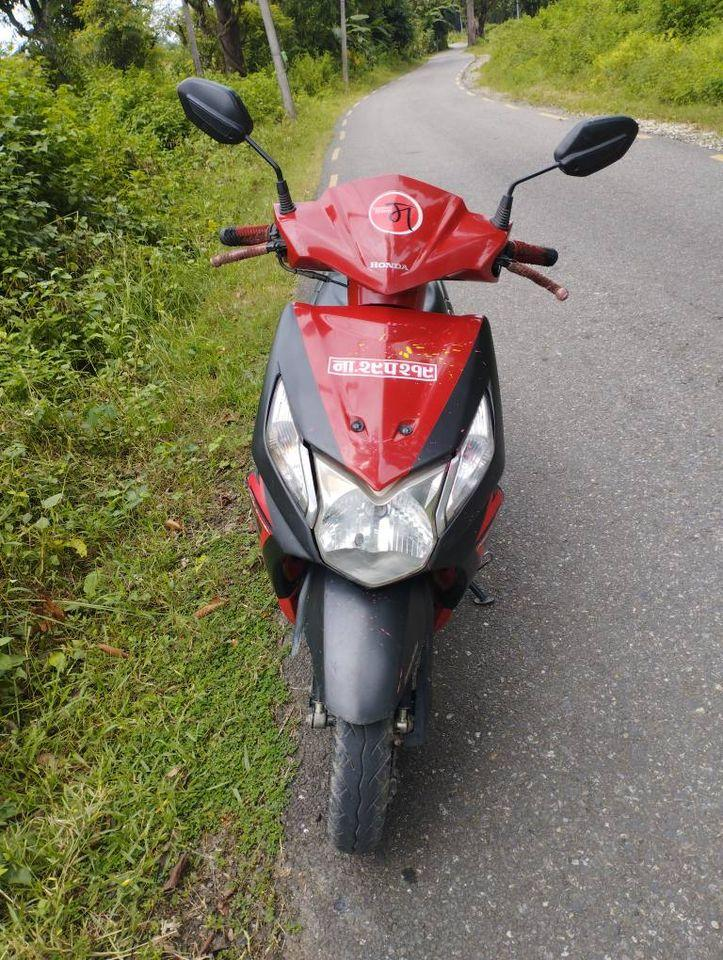scooter: (204, 179, 571, 864)
